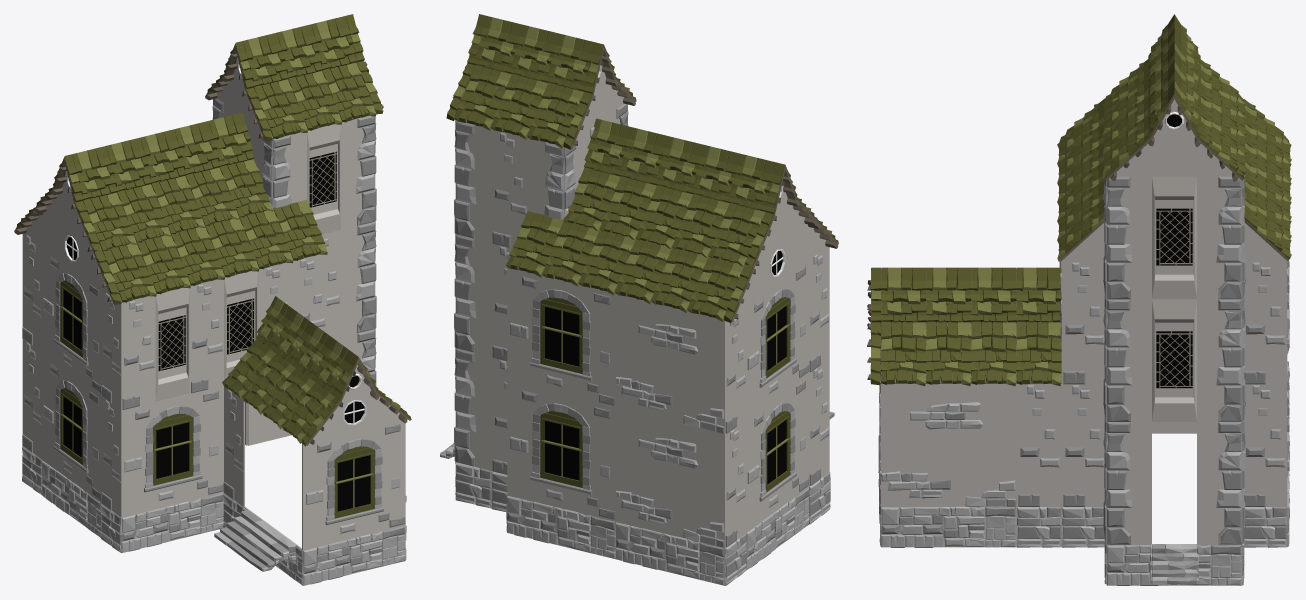
Rendered from HOUSE_5_PARTS.fbx.
3 renders of one model, left to right at view 1: azimuth 30°, elevation 25°; view 2: azimuth 150°, elevation 25°; view 3: azimuth 270°, elevation 25°, orthographic. The views are drawn at different scales.
Parts seen in each view (by area): view 1: WINDOW_05_13, WINDOW_05_12, WINDOW_05_14, WINDOW_05_15, WALL_07_3, WALL_06_8, FOUNDATION_03_2, FOUNDATION_03_5, WALL_07_4, WINDOW_04_2, WALL_06_9, WINDOW_04_4 (+61 smaller); view 2: WINDOW_05_17, WINDOW_05_16, WALL_03_3, WALL_03_4, WINDOW_05_14, WINDOW_05_15, WALL_05_8, WALL_05_7, FOUNDATION_03_8, FOUNDATION_03_7, WALL_05_6, WALL_06_18 (+46 smaller); view 3: WALL_03_2, FOUNDATION_03_3, WALL_06_3, WALL_05_5, WALL_07_5, WALL_05_4, WALL_07_6, WALL_05_2, WALL_07_7, WINDOW_04_5, WINDOW_04_6, WALL_06_12 (+48 smaller).
Part boxes in pixels (left/top/right/bottom): WINDOW_05_13: left=302, top=419, right=405, bottom=549; WINDOW_05_12: left=121, top=385, right=223, bottom=517; WINDOW_05_14: left=42, top=352, right=101, bottom=502; WINDOW_05_15: left=42, top=245, right=101, bottom=394; WALL_07_3: left=341, top=221, right=375, bottom=336; WALL_06_8: left=121, top=296, right=155, bottom=409; FOUNDATION_03_2: left=303, top=525, right=405, bottom=585; FOUNDATION_03_5: left=121, top=492, right=223, bottom=552; WALL_07_4: left=341, top=115, right=375, bottom=229; WINDOW_04_2: left=155, top=287, right=189, bottom=401; WALL_06_9: left=190, top=279, right=223, bottom=393; WINDOW_04_4: left=307, top=124, right=340, bottom=234; WINDOW_05_17: left=507, top=381, right=616, bottom=521; WINDOW_05_16: left=507, top=267, right=616, bottom=407; WALL_03_3: left=616, top=407, right=725, bottom=547; WALL_03_4: left=616, top=294, right=725, bottom=433; WINDOW_05_14: left=746, top=373, right=808, bottom=532; WINDOW_05_15: left=746, top=259, right=808, bottom=418; WALL_05_8: left=455, top=348, right=491, bottom=470; WALL_05_7: left=455, top=234, right=491, bottom=356; FOUNDATION_03_8: left=507, top=495, right=616, bottom=559; FOUNDATION_03_7: left=616, top=521, right=725, bottom=585; WALL_05_6: left=455, top=120, right=491, bottom=242; WALL_06_18: left=492, top=129, right=528, bottom=247; WALL_03_2: left=881, top=383, right=1016, bottom=506; FOUNDATION_03_3: left=881, top=506, right=1016, bottom=547; WALL_06_3: left=1016, top=383, right=1061, bottom=506; WALL_05_5: left=1106, top=176, right=1151, bottom=299; WALL_07_5: left=1197, top=176, right=1242, bottom=299; WALL_05_4: left=1106, top=299, right=1151, bottom=421; WALL_07_6: left=1197, top=299, right=1242, bottom=421; WALL_05_2: left=1106, top=422, right=1151, bottom=544; WALL_07_7: left=1197, top=422, right=1242, bottom=544; WINDOW_04_5: left=1152, top=176, right=1196, bottom=299; WINDOW_04_6: left=1152, top=299, right=1196, bottom=421; WALL_06_12: left=1061, top=261, right=1104, bottom=384.
Size of the model in its own units: 933 by 1214 by 941.
